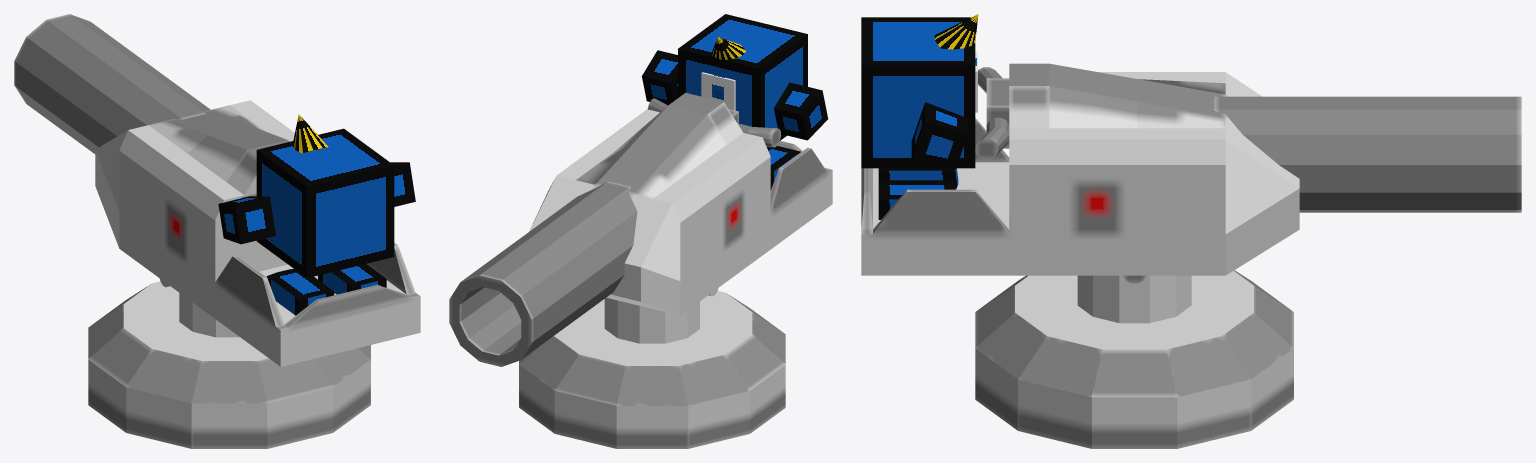
Rendered from akudo-fu+houdai-asyu2.fbx.
The picture shows the model from 3 angles, left to right: view 1: azimuth 30°, elevation 25°; view 2: azimuth 150°, elevation 25°; view 3: azimuth 270°, elevation 25°; orthographic projection. The views are drawn at different scales.
Visible parts, largest first — view 1: cuboid_6, cylinder, cuboid, cylinder_2, cuboid_4, cuboid_2, cuboid_1, cylinder_1, cuboid_3, cone; view 2: cuboid_6, cylinder, cylinder_2, cuboid, cylinder_1, cuboid_4, cuboid_3, cuboid_5, cylinder_4, cuboid_2, cone; view 3: cuboid_6, cylinder, cylinder_2, cuboid, cylinder_1, cuboid_3, cylinder_4, cuboid_1, cuboid_2, cuboid_7, cone.
Boxes of the visible parts, x1,y1,x2,y2 form: cuboid_6: (95,100,420,366); cylinder: (88,281,370,448); cuboid: (256,128,394,277); cylinder_2: (14,14,210,153); cuboid_4: (218,196,275,244); cuboid_2: (266,269,334,315); cuboid_1: (318,264,386,294); cylinder_1: (179,293,239,337); cuboid_3: (390,162,415,206); cone: (292,114,328,153); cuboid_6: (529,92,832,315); cylinder: (519,291,785,448); cylinder_2: (449,181,637,366); cuboid: (678,14,807,149); cylinder_1: (604,297,699,343); cuboid_4: (774,82,827,140); cuboid_3: (642,50,677,105); cuboid_5: (701,72,735,110); cylinder_4: (647,98,780,147); cuboid_2: (768,146,800,190); cone: (711,37,745,59); cuboid_6: (861,63,1299,275); cylinder: (975,270,1293,448); cylinder_2: (1214,96,1521,212); cuboid: (861,17,975,168); cylinder_1: (1077,275,1191,323); cuboid_3: (911,102,967,169); cylinder_4: (975,67,1009,159); cuboid_1: (878,180,955,219); cuboid_2: (878,168,958,189); cuboid_7: (986,78,1009,148); cone: (934,14,978,49).
Bounding box in the file's own units: 175 × 223 × 362.
